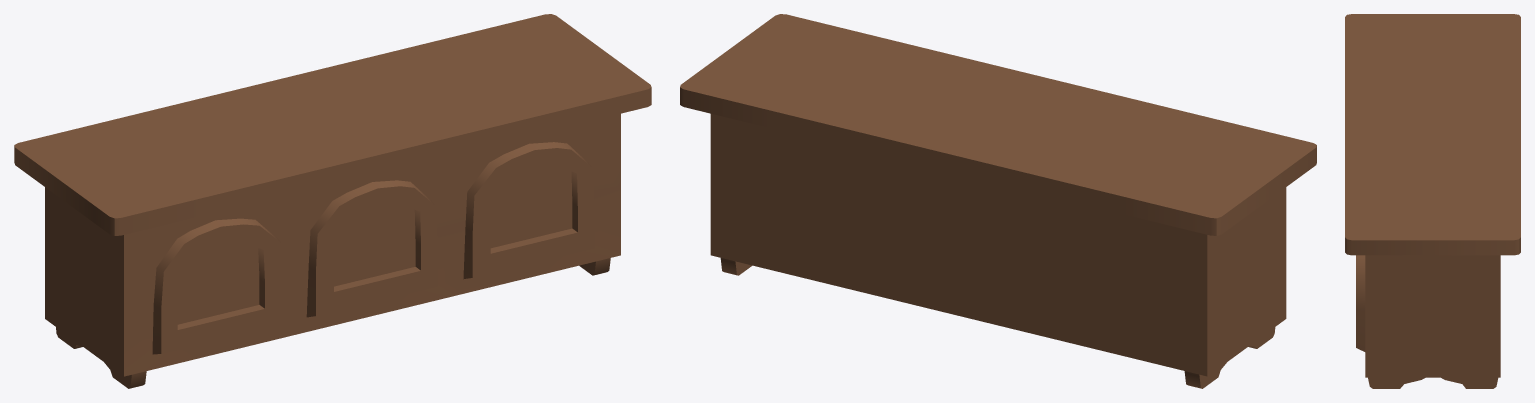
The model's file is 078_079_cupboard_var1.glb.
3 renders of one model, left to right at view 1: azimuth 30°, elevation 25°; view 2: azimuth 150°, elevation 25°; view 3: azimuth 270°, elevation 25°, orthographic. The views are drawn at different scales.
Visible parts, largest first — view 1: table; view 2: table; view 3: table.
Part boxes in pixels (x1,y1,x2,y2): table: (14,14,651,388); table: (680,14,1316,388); table: (1345,14,1520,388).
Size of the model in its own units: 2.25 by 0.75 by 0.7386.
